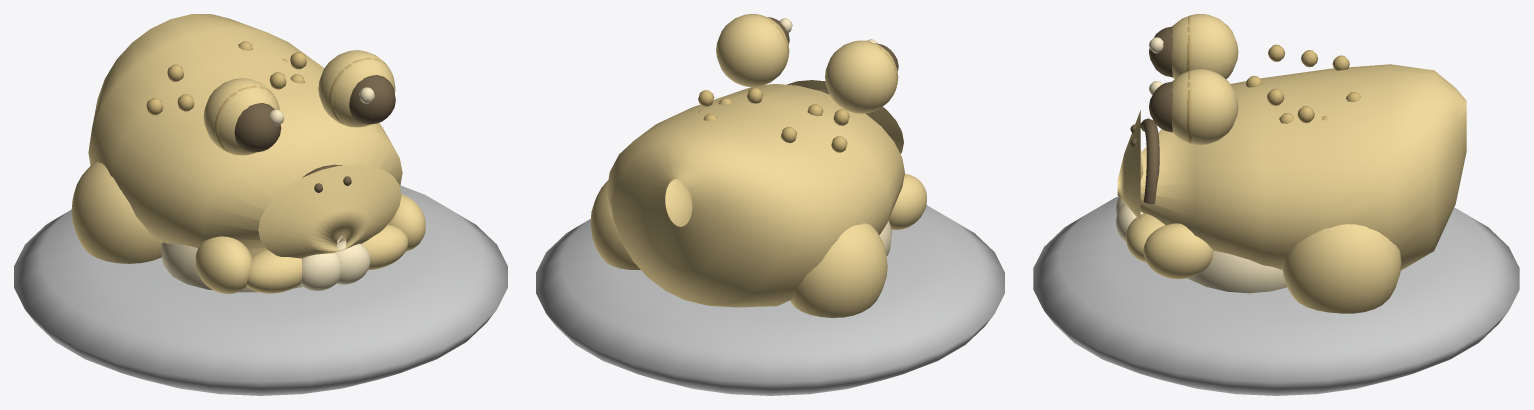
Rendered from toad.glb.
3 views of the same model, side by side, from view 1: azimuth 30°, elevation 25°; view 2: azimuth 150°, elevation 25°; view 3: azimuth 270°, elevation 25° (orthographic). The views are drawn at different scales.
Parts seen in each view (by area): view 1: rock, toadBody, hindLegL, toadBulbR, toadBulbL, armL, forearmL, toadEyeL, toadEyeR, belly, forearmR, handL (+2 smaller); view 2: toadBody, rock, hindLegL, toadBulbR, toadBulbL, hindLegR, armL; view 3: rock, toadBody, hindLegR, toadBulbR, toadBulbL, armR, belly, toadMouth, forearmR, toadEyeR, toadEyeL, handR.
Part boxes in pixels (left/top/right/bottom): rock: left=14, top=185, right=507, bottom=395; toadBody: left=88, top=14, right=402, bottom=258; hindLegL: left=71, top=162, right=161, bottom=263; toadBulbR: left=318, top=50, right=395, bottom=127; toadBulbL: left=203, top=78, right=279, bottom=155; armL: left=195, top=236, right=251, bottom=293; forearmL: left=246, top=249, right=302, bottom=293; toadEyeL: left=234, top=103, right=281, bottom=152; toadEyeR: left=349, top=75, right=395, bottom=124; belly: left=161, top=237, right=342, bottom=292; forearmR: left=339, top=224, right=408, bottom=269; handL: left=300, top=253, right=340, bottom=290; toadBody: left=606, top=80, right=904, bottom=307; rock: left=536, top=205, right=1004, bottom=395; hindLegL: left=790, top=223, right=887, bottom=317; toadBulbR: left=716, top=14, right=789, bottom=86; toadBulbL: left=825, top=40, right=898, bottom=113; hindLegR: left=590, top=179, right=692, bottom=269; armL: left=888, top=174, right=926, bottom=229; rock: left=1033, top=196, right=1519, bottom=395; toadBody: left=1117, top=64, right=1466, bottom=270; hindLegR: left=1282, top=224, right=1401, bottom=313; toadBulbR: left=1172, top=69, right=1238, bottom=144; toadBulbL: left=1172, top=14, right=1238, bottom=79; armR: left=1143, top=223, right=1213, bottom=279; belly: left=1187, top=250, right=1287, bottom=293; toadMouth: left=1140, top=118, right=1159, bottom=204; forearmR: left=1126, top=213, right=1165, bottom=262; toadEyeR: left=1149, top=81, right=1172, bottom=132; toadEyeL: left=1149, top=26, right=1172, bottom=77; handR: left=1116, top=203, right=1143, bottom=242.
Size of the model in its own units: 1.8 by 1.11 by 1.79.
